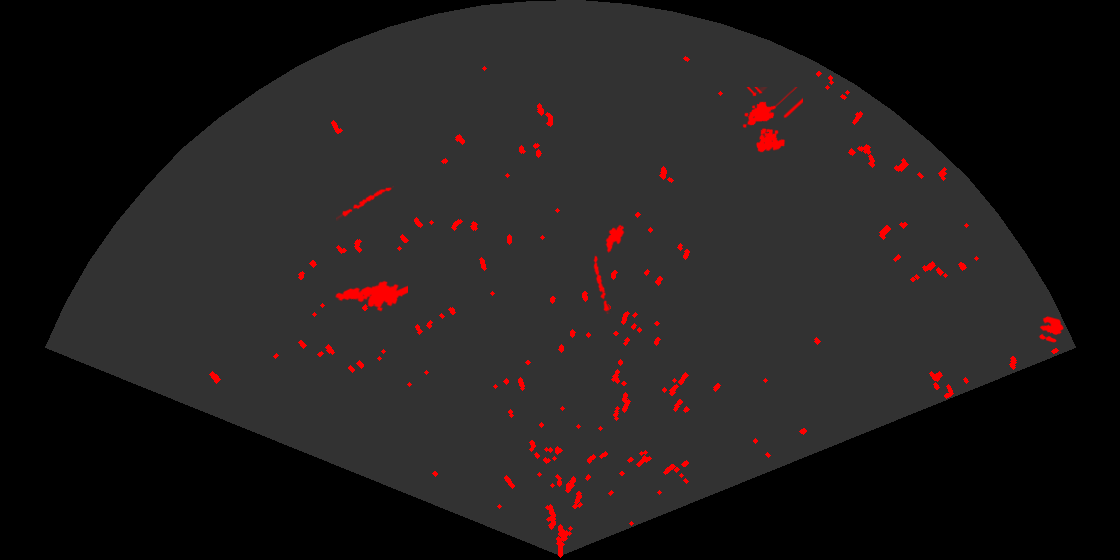AUV: (604, 223, 626, 255)
ball: (1037, 315, 1065, 344)
cage: (741, 87, 803, 154)
chain: (336, 184, 394, 221), (592, 253, 611, 314)
frogman: (334, 279, 408, 313)
